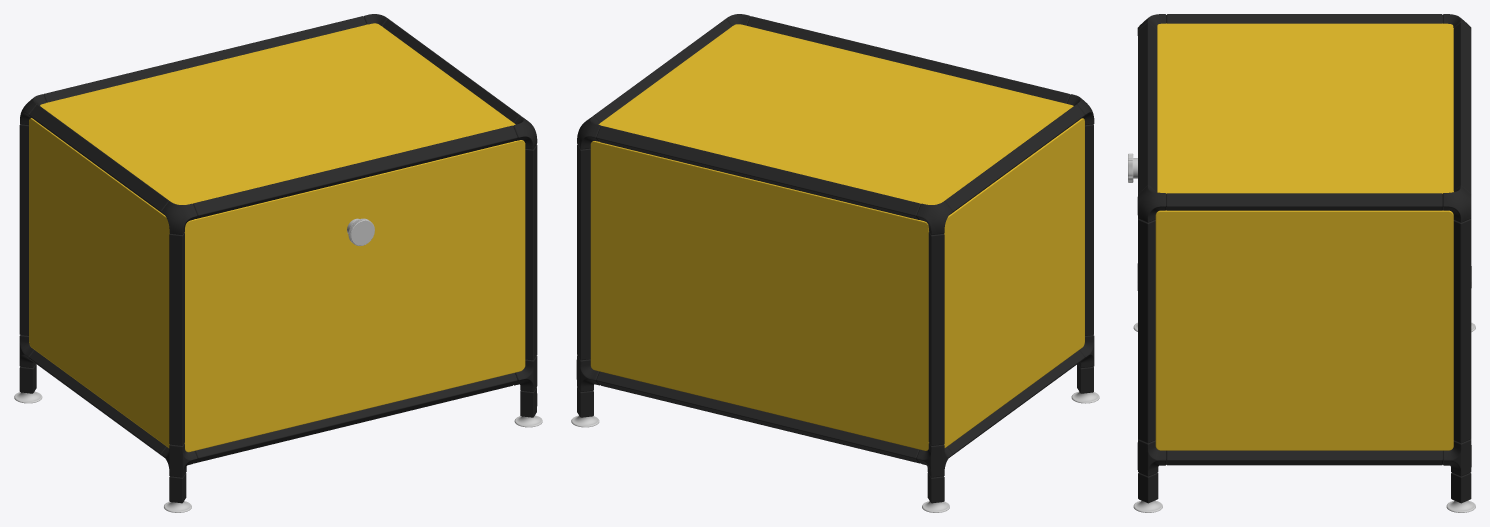
3 renders of one model, left to right at view 1: azimuth 30°, elevation 25°; view 2: azimuth 150°, elevation 25°; view 3: azimuth 270°, elevation 25°, orthographic. The views are drawn at different scales.
Visible parts, largest first — view 1: 523x374x329; view 2: 523x374x329; view 3: 523x374x329.
Part boxes in pixels (left/top/right/bottom): 523x374x329: left=14, top=14, right=542, bottom=512; 523x374x329: left=571, top=14, right=1099, bottom=512; 523x374x329: left=1128, top=14, right=1475, bottom=512.
Size of the model in its own units: 0.6129 by 0.4683 by 0.4707.
